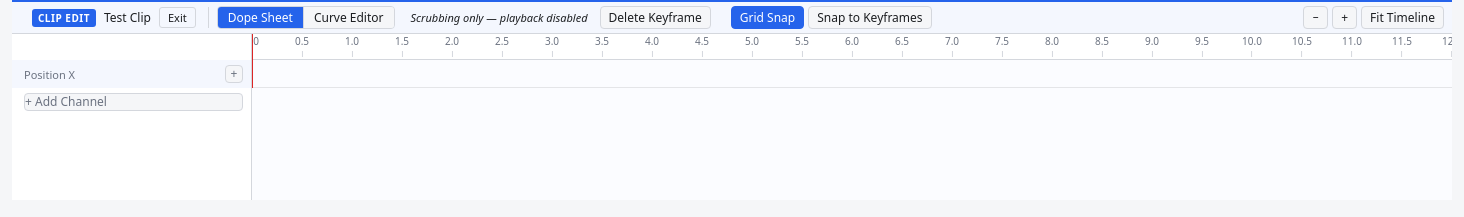
it: Clip-edit curve editor toggle › switches back to Dope Sheet from Curve Editor in clip-edit mode
Expected: the text "Clip Edit" is shown, x1=32 y1=8 x2=96 y2=26
Switch to curve editor
What coordinates should you click on to do the following:
click the button "Curve Editor"
I would click on:
 (349, 18)
Its box is x1=304 y1=7 x2=394 y2=28.
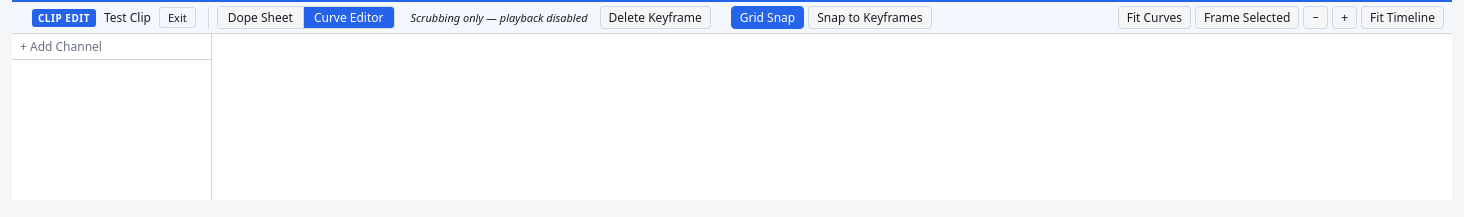
Switch back to dope sheet
What coordinates should you click on to do the following:
click the button "Dope Sheet"
I would click on:
 (261, 18)
Its box is x1=218 y1=7 x2=304 y2=28.
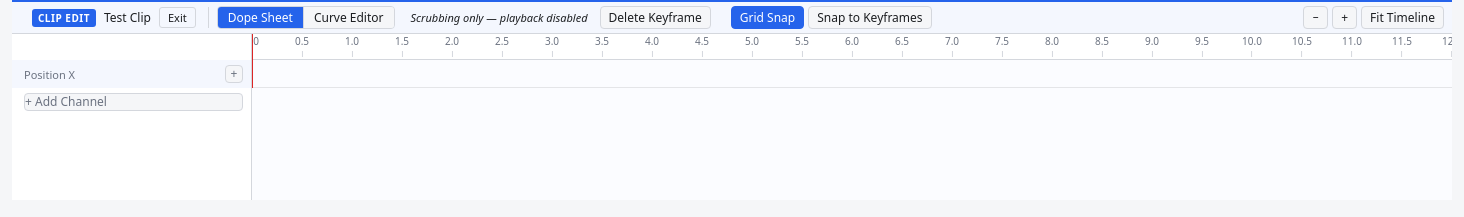
Result: the element with class "clip-edit-body" is shown
